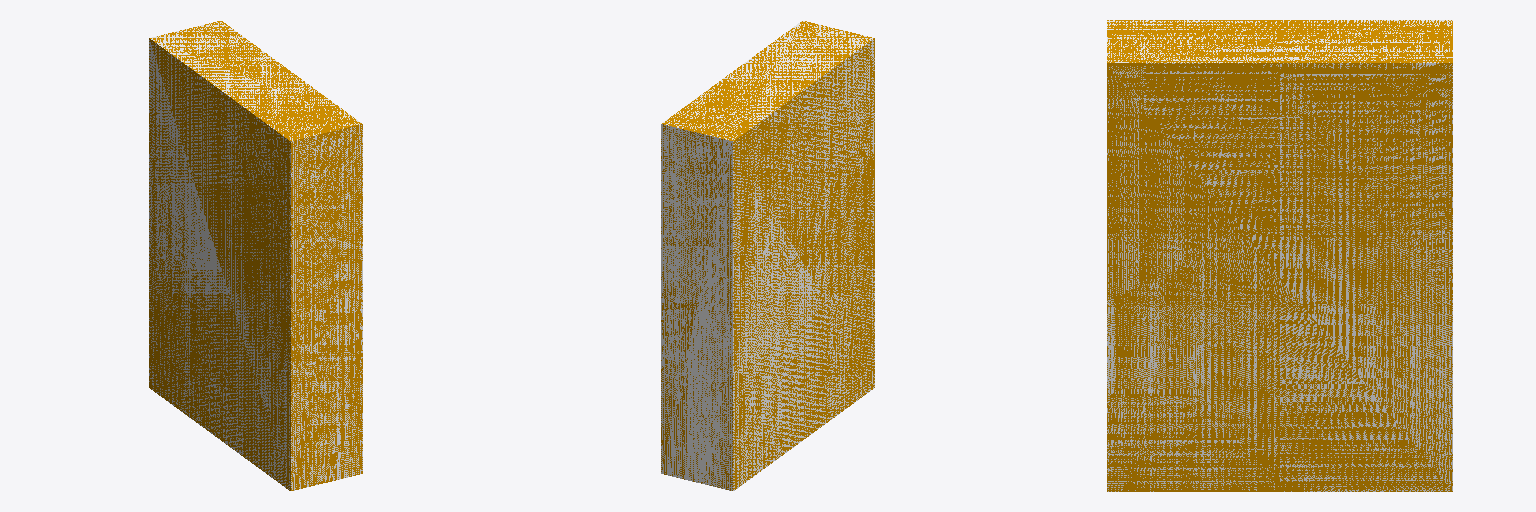
URDF robot description (my_object):
<?xml version="1.0" ?> 
<robot name="my_object" static="true">
  <link name="base_link">
  <inertial>
    <mass value="3.007" />
    <origin xyz="0 0 0.0" />
    <inertia ixx="1.0" ixy="0.0" ixz="0.0" iyy="1.0" iyz="0.0" izz="1.0"/>
  </inertial>
  <visual>
   <origin xyz="0 0 0.0" rpy="0 0 0" />
   <geometry>
     <mesh filename="package://cob_gazebo_objects/Media/models/book_very_large.dae"/>
   </geometry>
  </visual>
  <collision>
   <origin xyz="0 0 0" rpy="0 0 0" />
   <geometry>
     <box size="0.06 0.205 0.28" />
   </geometry>
  </collision>     
  </link>

<gazebo>
	<static>true</static>
</gazebo>
</robot>

--- Render facts (derived) ---
The picture shows the robot from 3 angles, left to right: view 1: azimuth 30°, elevation 25°; view 2: azimuth 150°, elevation 25°; view 3: azimuth 270°, elevation 25°; orthographic projection.
Model my_object with 1 links and 0 joints (none), rooted at base_link, posed all joints at 0.
Links seen in each view (by area): view 1: base_link; view 2: base_link; view 3: base_link.
Link boxes in pixels (<box>): base_link: <box>149,21,362,490</box>; base_link: <box>661,21,874,490</box>; base_link: <box>1107,20,1452,491</box>.
Bounding box of the posed robot: 0.0015 × 0.0052 × 0.0071 m (x, y, z).
1 mesh visuals loaded from 1 distinct referenced files (1 Collada DAE).